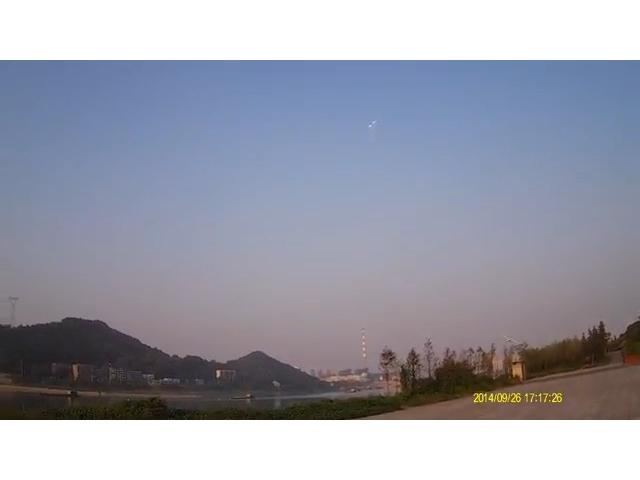Anti-Drone: (361, 114, 385, 136)
